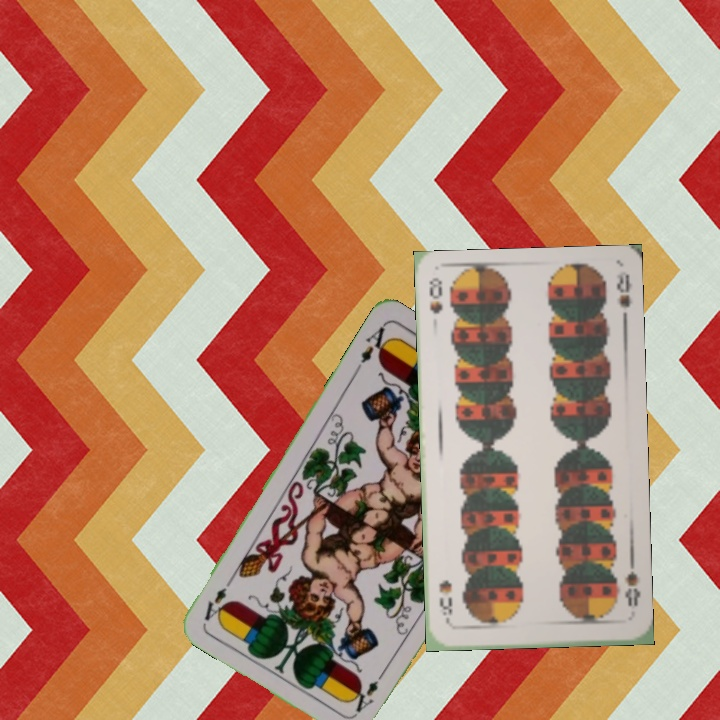EA: (351, 321, 395, 375), (352, 664, 389, 715)
S8: (621, 559, 643, 609), (425, 275, 445, 317)
